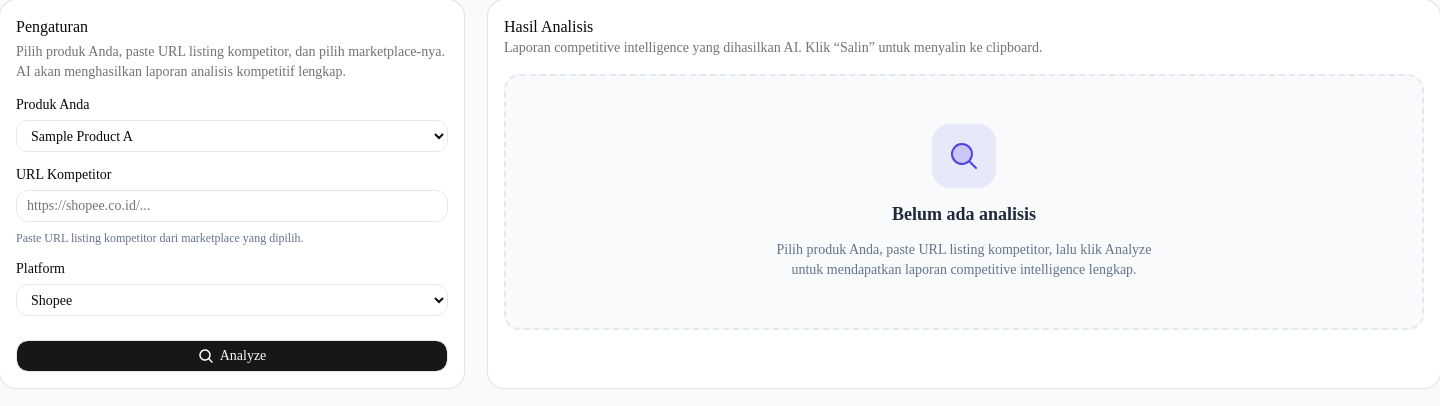
Test: CompetitorAnalyzer › shows loading state with 'Menganalisis kompetitor...' text while analyzeCompetitor is in flight
Type "https://shopee.co.id/sample-product" into the field with test id "competitor-url". click: (232, 206)
box: [16, 190, 448, 222]
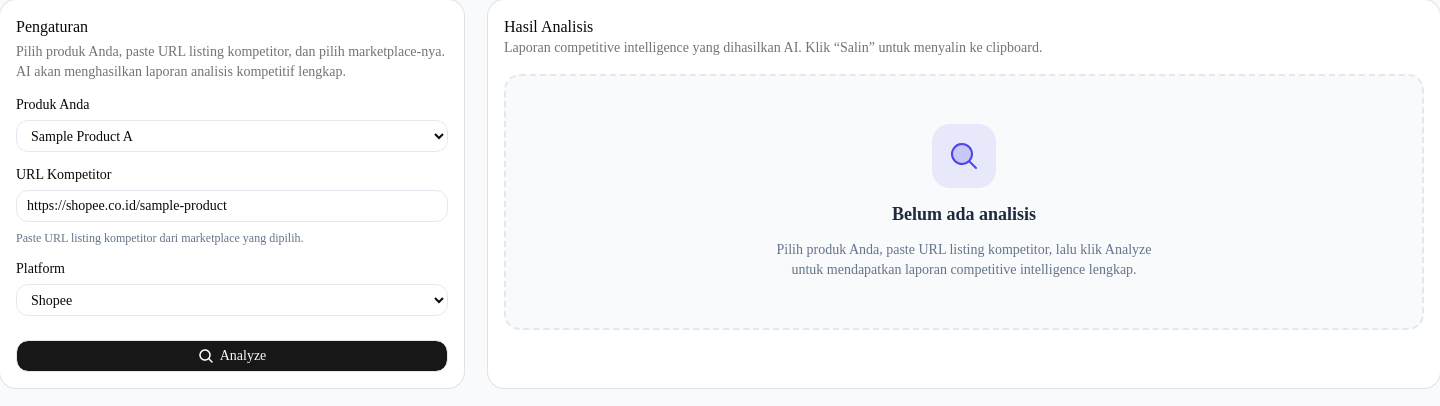
Click the button with test id "competitor-analyze". click: (232, 356)
box: [16, 340, 448, 372]
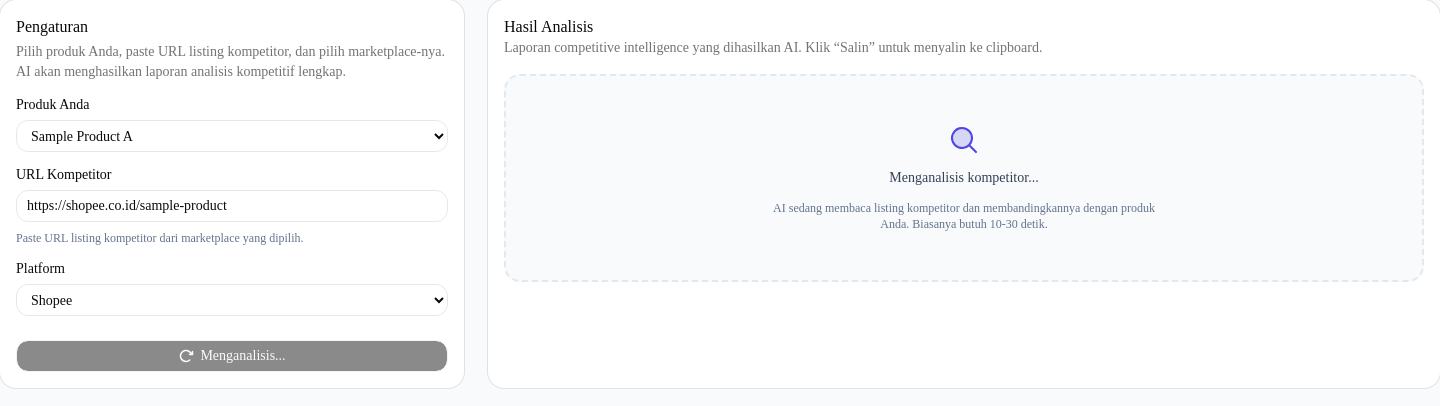
Expected: the element with test id "competitor-loading" is shown, [504, 74, 1424, 282]
Expected: the text "Menganalisis kompetitor..." is shown, [889, 168, 1039, 188]
